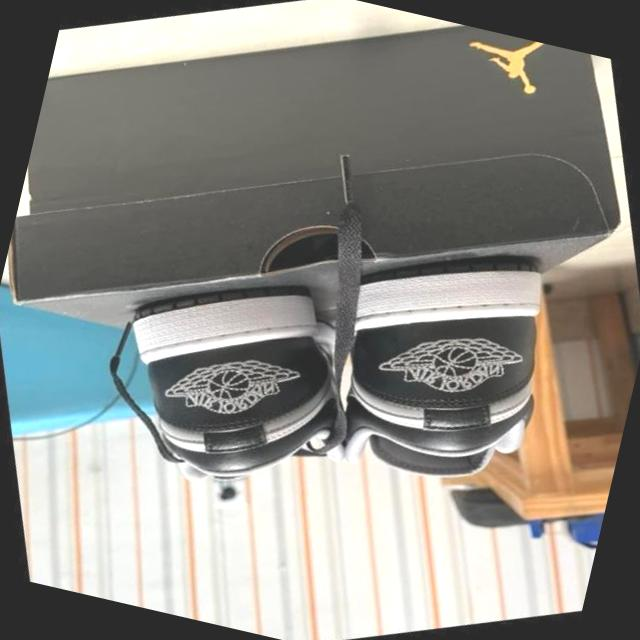nike_original_jordan: (274, 205, 610, 534), (80, 232, 407, 539)
